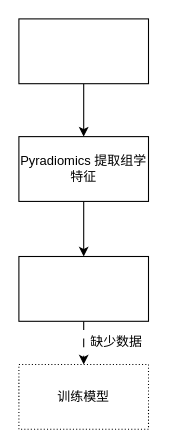
Some shapes in this 171 by 448 pixel diagram are drawn without their labels. The shapes that lost their labels are listed below. From the top down, each one's centre as x and y in pixels, then its label:
the point at 83,51: NRRD 文件
the point at 83,288: 构建回归模型（计算各个指标的权重）
